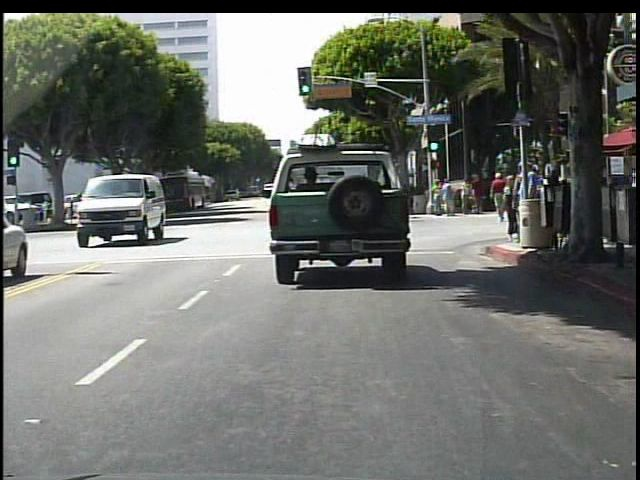person: (519, 160, 543, 247), (504, 170, 520, 242), (490, 171, 507, 223), (521, 176, 538, 227), (539, 173, 553, 219), (440, 180, 455, 218), (472, 171, 484, 213), (460, 178, 472, 214), (435, 182, 445, 217)
